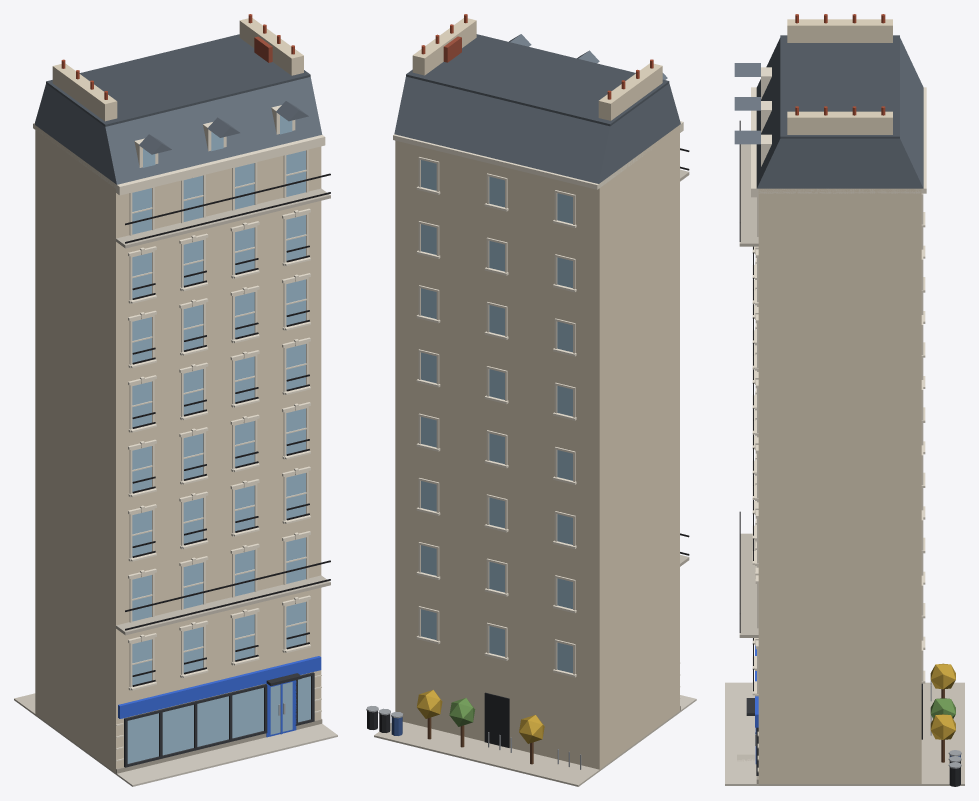
File: Blok_duz_9k_6_Hafif.fbx
3 views of the same model, side by side, from view 1: azimuth 30°, elevation 25°; view 2: azimuth 150°, elevation 25°; view 3: azimuth 270°, elevation 25° (orthographic).
Parts seen in each view (by area): view 1: Blok_duz_9k_6_Hafif; view 2: Blok_duz_9k_6_Hafif; view 3: Blok_duz_9k_6_Hafif.
Boxes of the visible parts, x1,y1,x2,y2 form: Blok_duz_9k_6_Hafif: (14,14,337,786); Blok_duz_9k_6_Hafif: (366,14,696,786); Blok_duz_9k_6_Hafif: (725,14,964,786).
Bounding box in the file's own units: 10.57 × 31.07 × 10.
